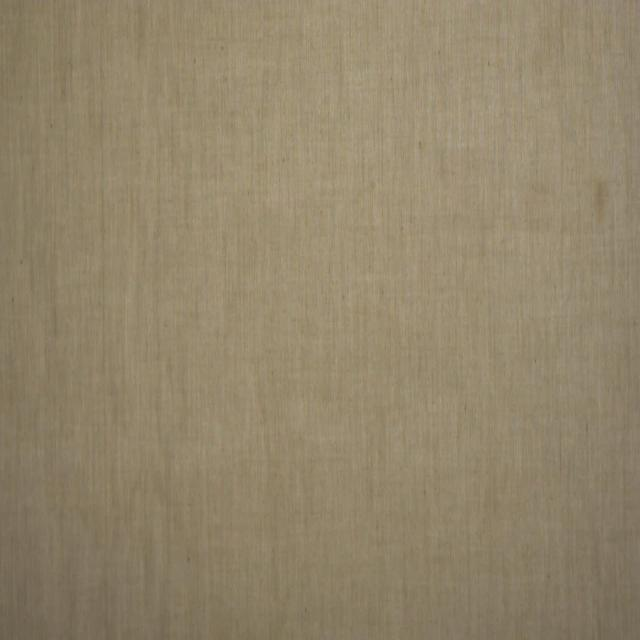dirty: (593, 178, 607, 220)
